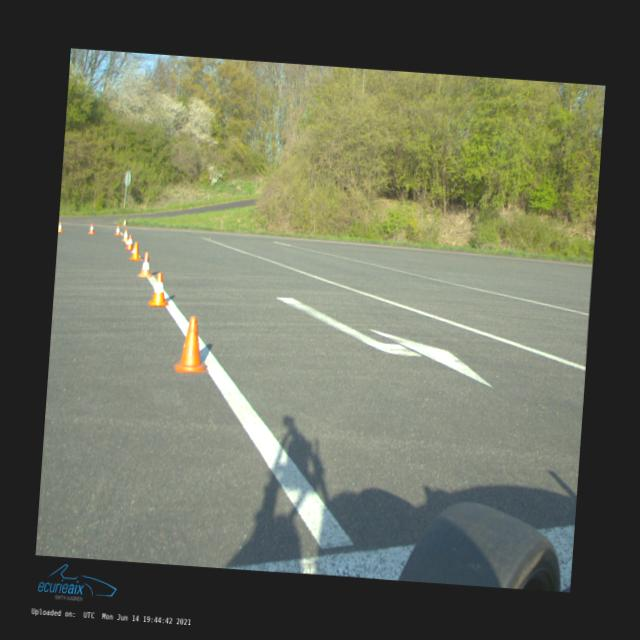orange_cone: (173, 314, 211, 374), (149, 271, 171, 306), (138, 251, 154, 277), (130, 242, 142, 260), (125, 235, 134, 250), (88, 223, 95, 234), (58, 221, 64, 232), (122, 229, 128, 240), (115, 225, 121, 235), (122, 218, 126, 226)
